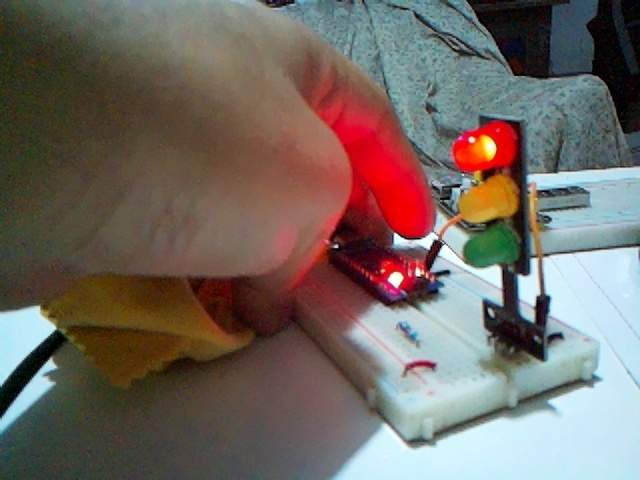traffic_light_red: (453, 116, 548, 355)
